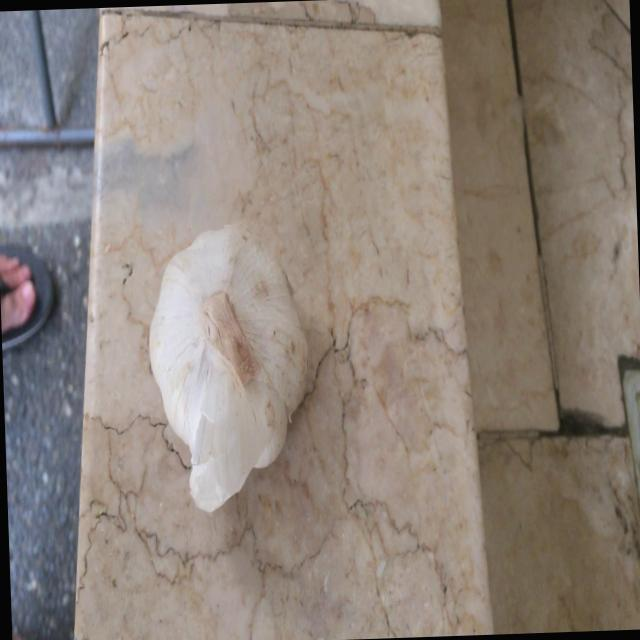garlic: (140, 218, 314, 518)
